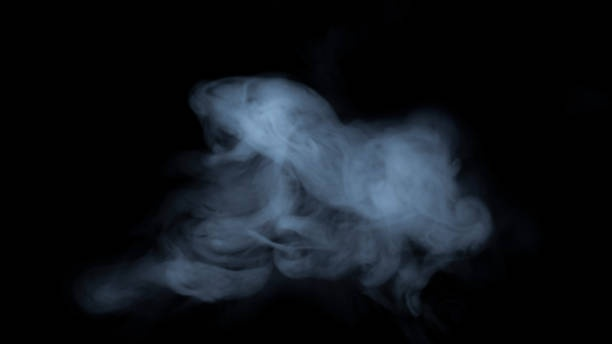smoke: (145, 69, 492, 302)
